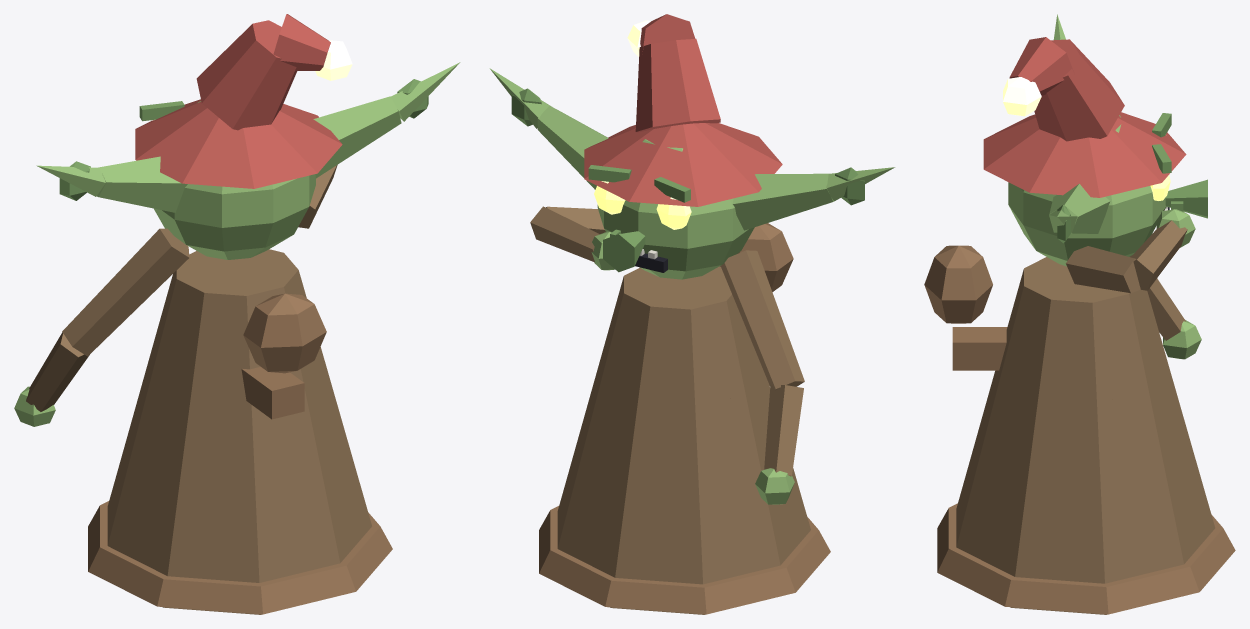
File: goblin_merchant.glb
3 renders of one model, left to right at view 1: azimuth 30°, elevation 25°; view 2: azimuth 150°, elevation 25°; view 3: azimuth 270°, elevation 25°, orthographic. The views are drawn at different scales.
Visible parts, largest first — view 1: goblin_merchant; view 2: goblin_merchant; view 3: goblin_merchant.
Part boxes in pixels (box(x1,y1,x2,y2)): goblin_merchant: box(14, 14, 460, 614); goblin_merchant: box(489, 14, 895, 614); goblin_merchant: box(924, 14, 1235, 614).
Size of the model in its own units: 1.56 by 1.92 by 1.01.
